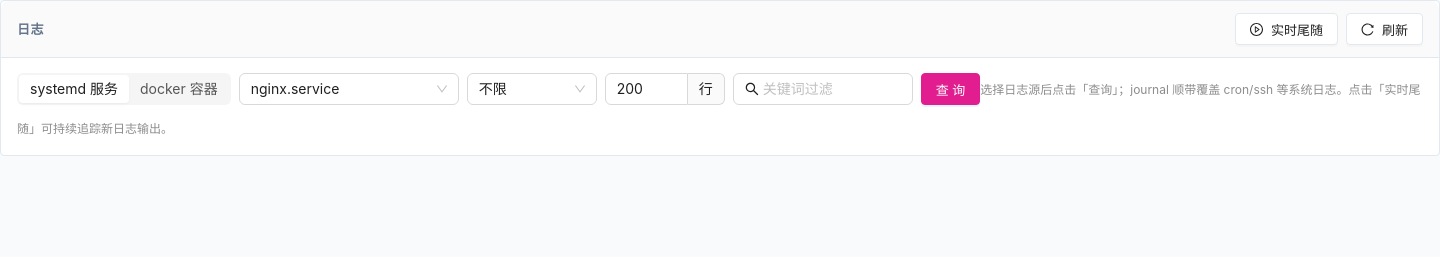
Test: LogsPanel › 实时尾随：data 帧追加行；eof limit 显示上限 Tag
Expected: the text "nginx.service" is shown, [251,80,340,97]
What coordinates should you click on to do the following:
click the button "实时尾随"
I would click on:
 (1286, 29)
Its box is [1235,13,1338,45].
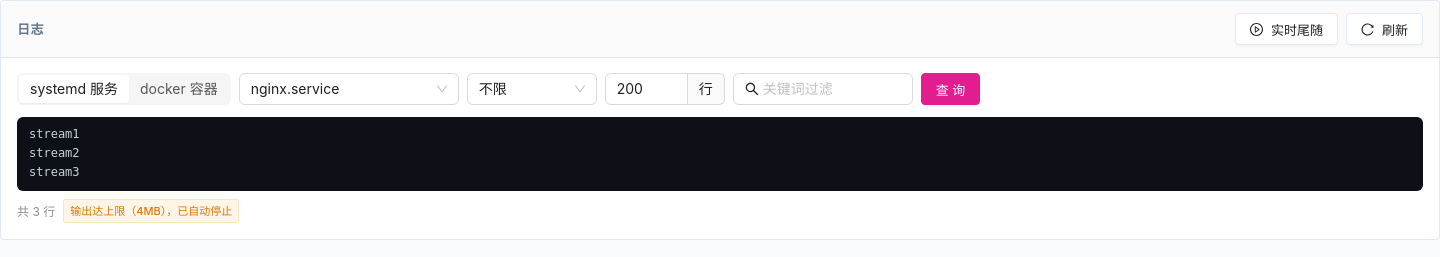
Expected: the text "stream1" is shown, [29,127,80,141]
Expected: the text "stream3" is shown, [29,165,80,179]
Expected: the text "输出达上限（4MB），已自动停止" is shown, [63,199,239,223]
